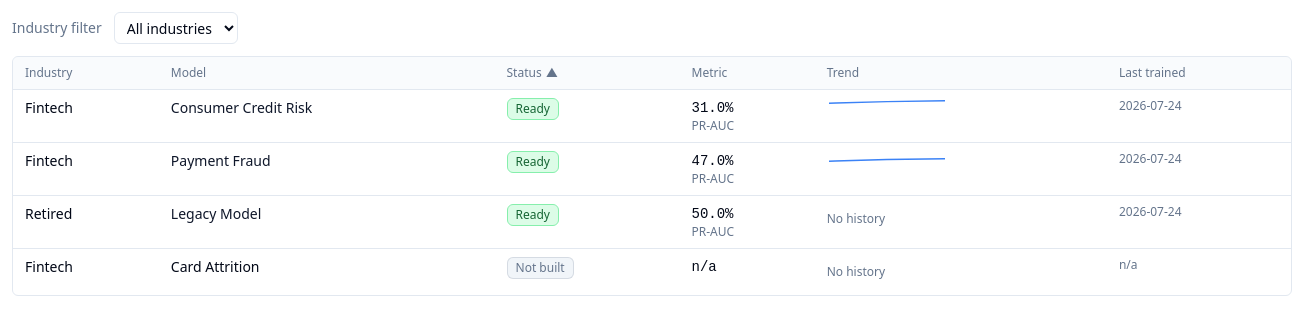
Test: DashboardTable › filters rows to the selected industry
Expected: the link "Legacy Model" is shown, [171, 204, 261, 223]
Select "Fintech" in the dropdown labelled "Industry filter": x=176, y=28 [114, 12, 238, 44]
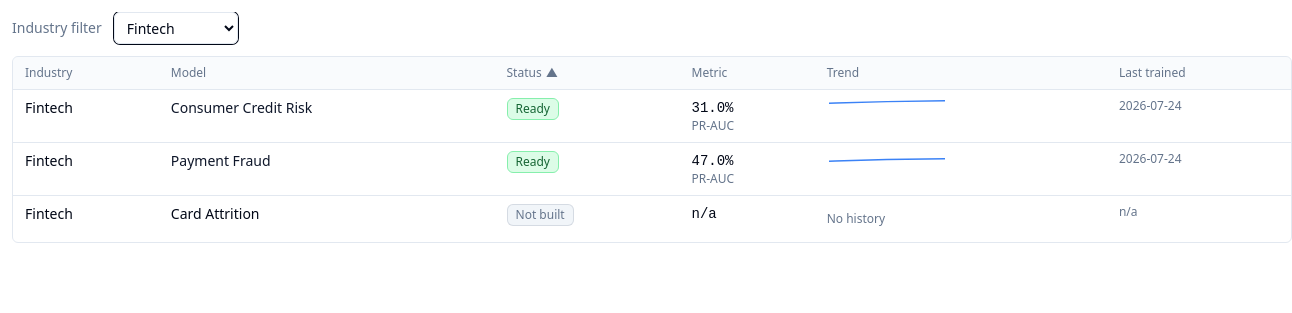
Expected: the link "Payment Fraud" is shown, [171, 151, 270, 170]
Result: the link "Legacy Model" is gone
